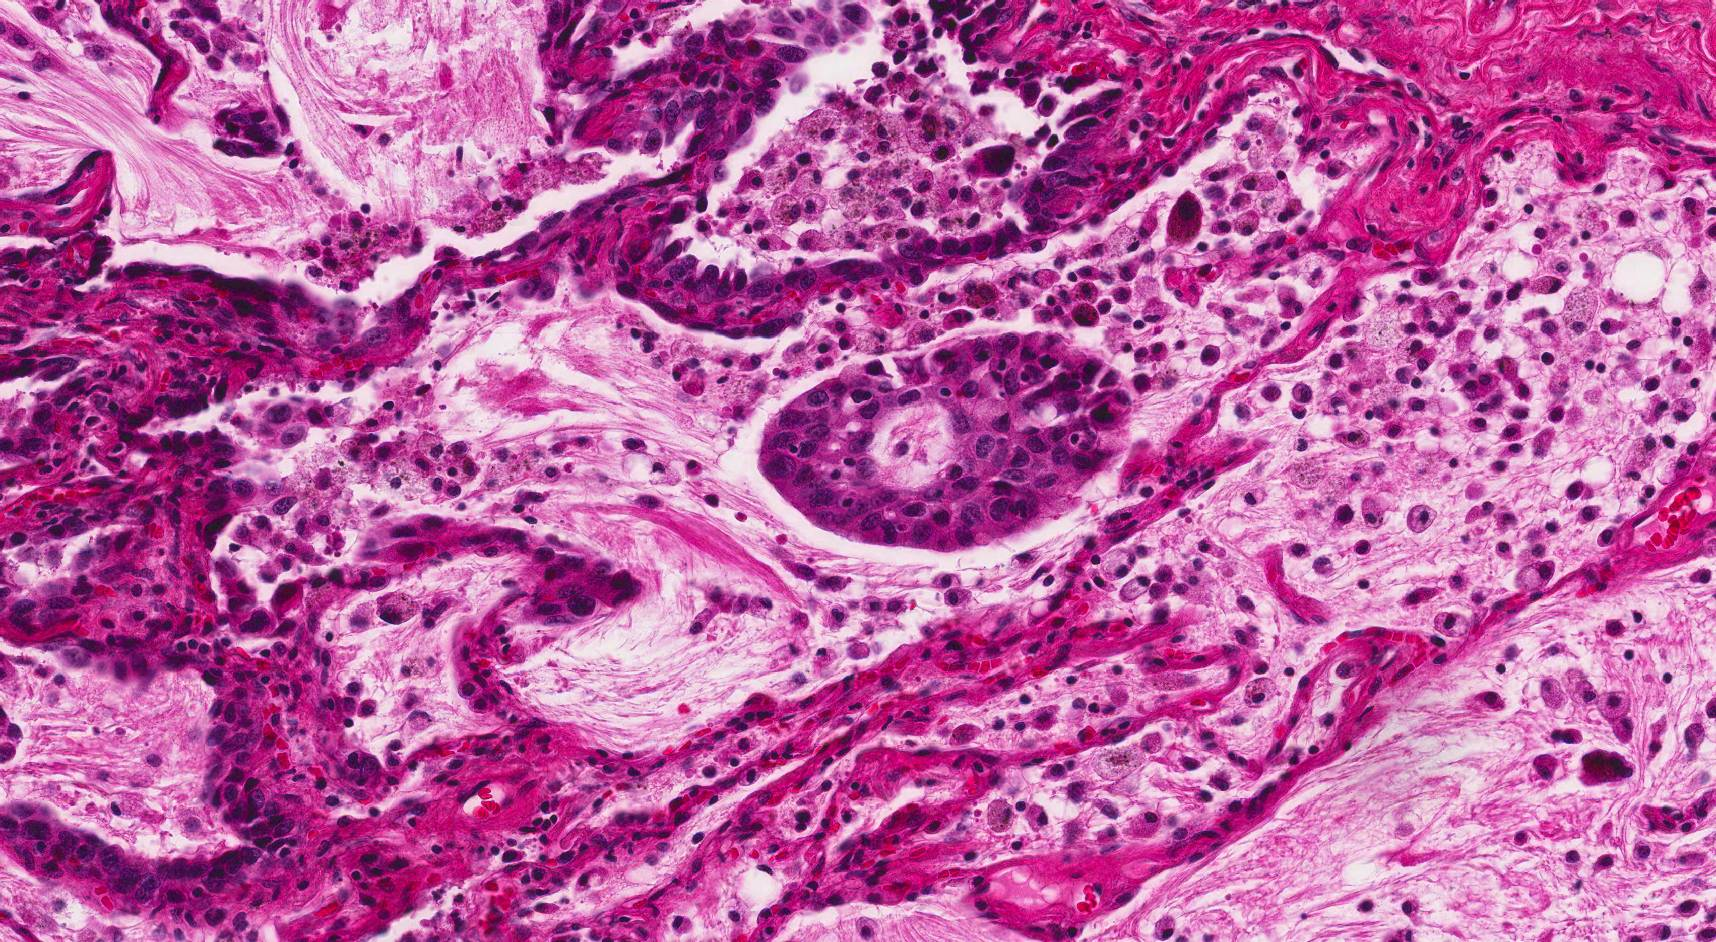stas: (755, 337, 1133, 551)
